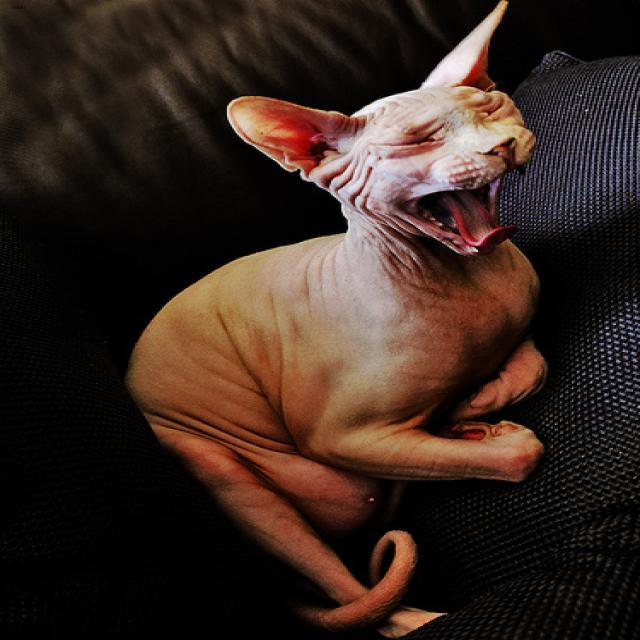Sphynx: (222, 0, 558, 270)
